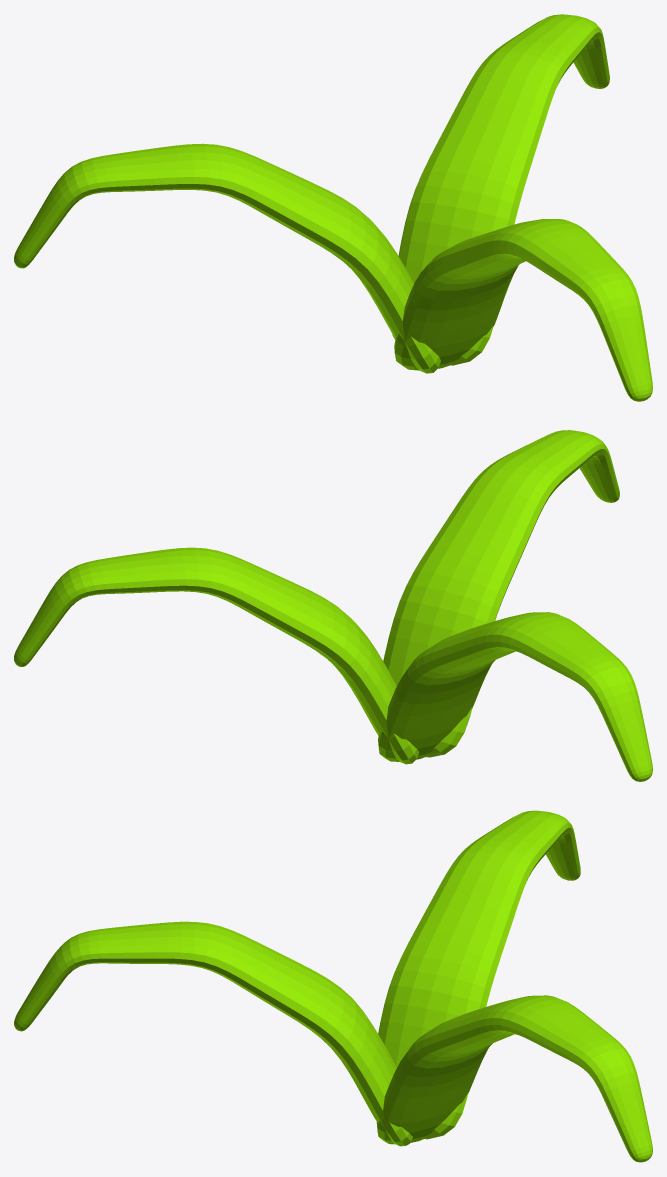
The model's file is grass.fbx.
3 renders of one model, top to bottom at view 1: azimuth 30°, elevation 25°; view 2: azimuth 150°, elevation 25°; view 3: azimuth 270°, elevation 25°, orthographic. The views are drawn at different scales.
Parts seen in each view (by area): view 1: grass; view 2: grass; view 3: grass.
Part boxes in pixels (x1,y1,x2,y2): grass: (14,14,652,401); grass: (14,430,652,781); grass: (14,810,652,1162).
Bounding box in the file's own units: 2.28 × 2.13 × 0.772.
